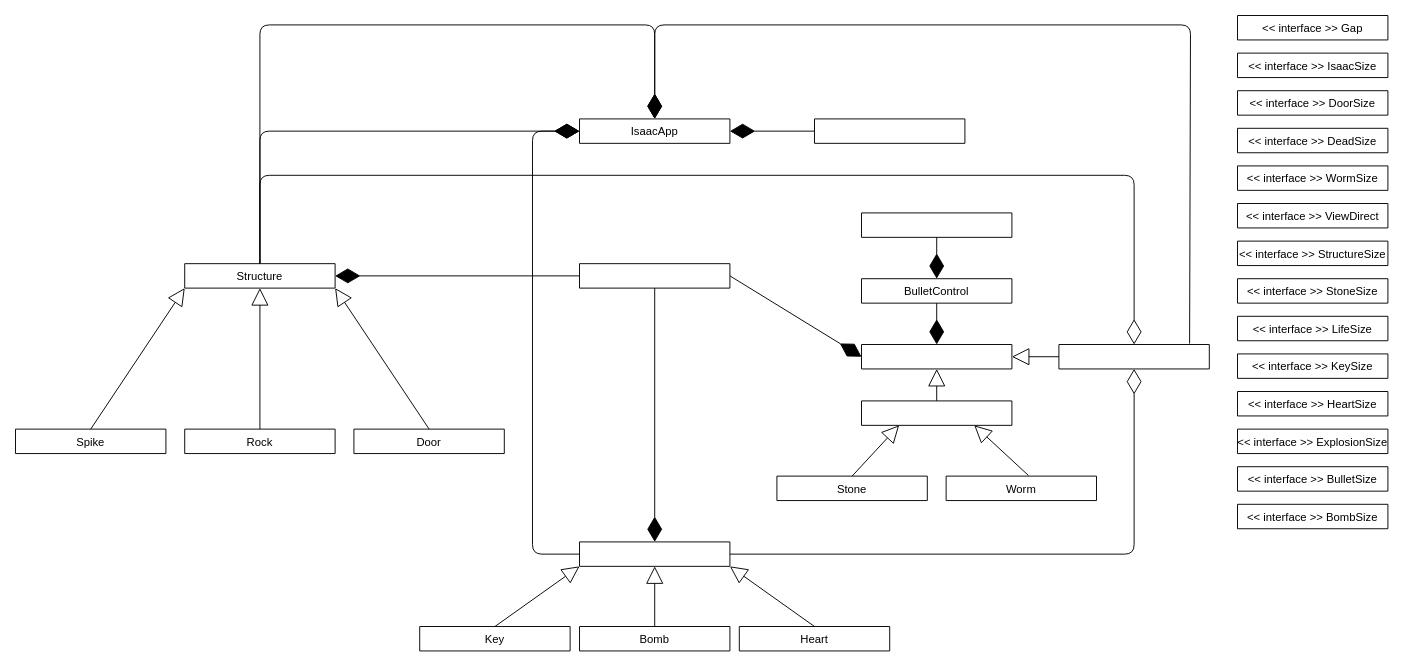
Image size: 1403x666. Some labels were removed from this diagram. The shapes that lost their labels are listed below. From the top down, each one's centre as x and y in pixels, then its label:
At point 889,130: "Background".
At point 936,224: "Bullet".
At point 654,275: "SpriteSheet".
At point 936,356: "Charactor".
At point 1133,356: "Isaac".
At point 936,412: "Monster".
At point 654,553: "Item".
